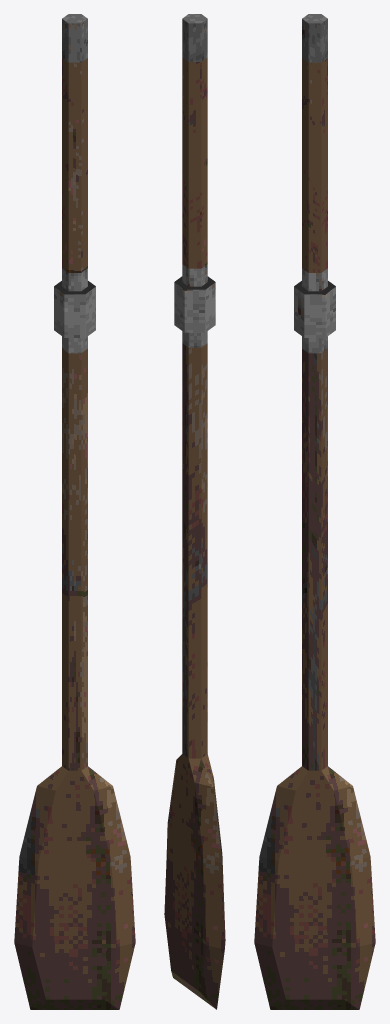
Rendered from Paddle.glb.
3 renders of one model, left to right at view 1: azimuth 90°, elevation 25°; view 2: azimuth 210°, elevation 25°; view 3: azimuth 270°, elevation 25°, orthographic.
Parts seen in each view (by area): view 1: Cylinder; view 2: Cylinder; view 3: Cylinder.
Boxes of the visible parts, left/top/right/bottom form: Cylinder: left=14, top=14, right=135, bottom=1009; Cylinder: left=164, top=14, right=225, bottom=1009; Cylinder: left=254, top=14, right=375, bottom=1009.
Size of the model in its own units: 0.1665 by 4.97 by 0.5523.
Materials: 2 (2 with a texture image).
